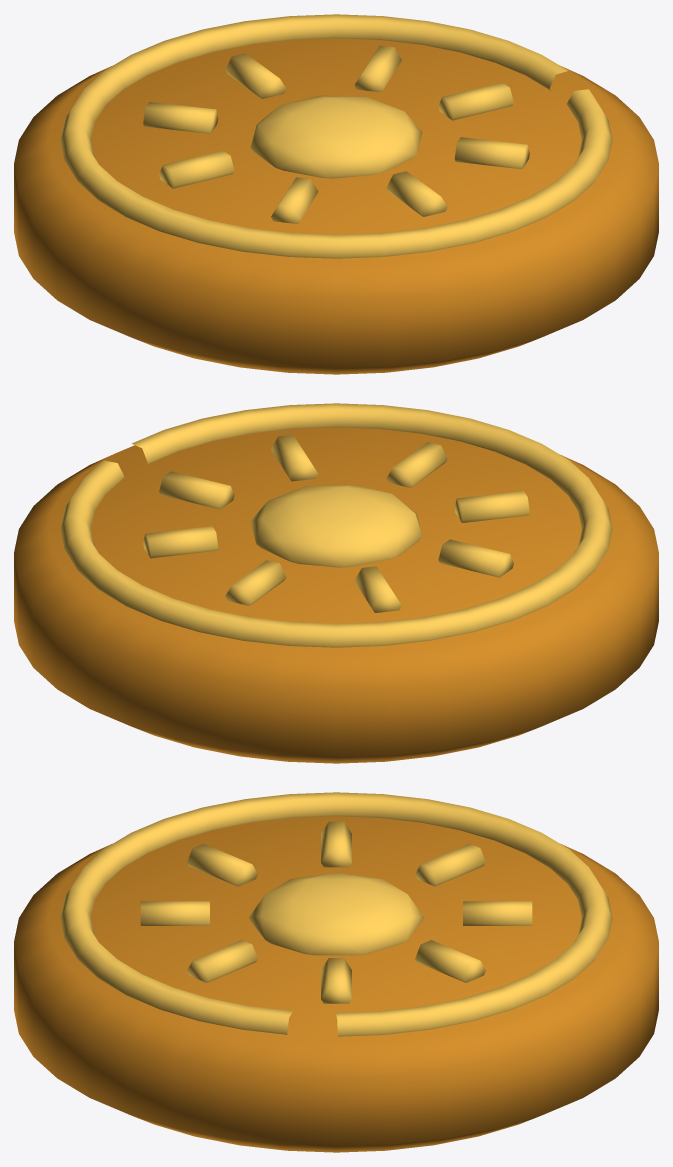
Rendered from stamped-coin.glb.
The picture shows the model from 3 angles, top to bottom: view 1: azimuth 30°, elevation 25°; view 2: azimuth 150°, elevation 25°; view 3: azimuth 270°, elevation 25°; orthographic projection.
Visible parts, largest first — view 1: struck brass, raised little sun; view 2: struck brass, raised little sun; view 3: struck brass, raised little sun.
Part boxes in pixels (x1=…): struck brass: x1=14, y1=38, x2=658, y2=374; raised little sun: x1=60, y1=14, x2=612, y2=258; struck brass: x1=14, y1=427, x2=658, y2=763; raised little sun: x1=60, y1=403, x2=612, y2=647; struck brass: x1=14, y1=816, x2=658, y2=1152; raised little sun: x1=60, y1=792, x2=612, y2=1036.
Size of the model in its own units: 0.418 by 0.101 by 0.418.
